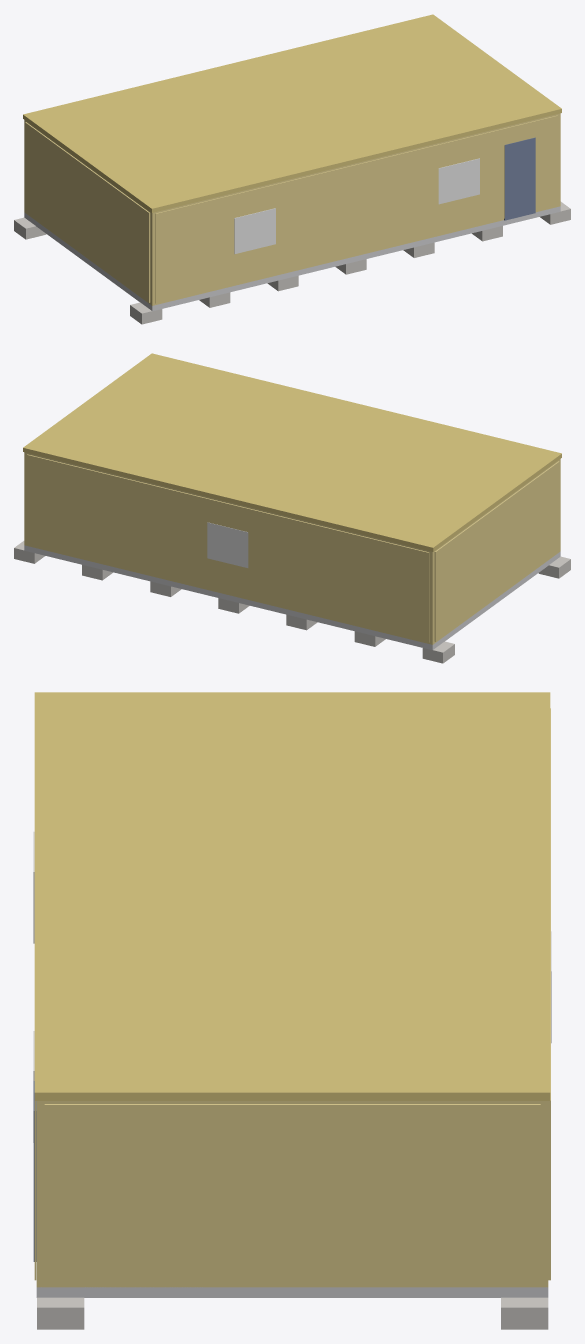
The model's file is Studio-40-Base-DesertYellow-LOD3.glb.
3 views of the same model, one above another, from view 1: azimuth 30°, elevation 25°; view 2: azimuth 150°, elevation 25°; view 3: azimuth 270°, elevation 25° (orthographic). The views are drawn at different scales.
Parts seen in each view (by area): view 1: RoofMain, ExteriorPanelsStandard, BaseFrame, WindowsStandard, ExteriorShell, FoundationBlocks, EntryDoor; view 2: RoofMain, ExteriorPanelsStandard, BaseFrame, ExteriorShell, FoundationBlocks, WindowsStandard; view 3: RoofMain, ExteriorPanelsStandard, ExteriorShell, BaseFrame, FoundationBlocks.
Part boxes in pixels (box(x1,y1,x2,y2)): RoofMain: box(23, 14, 561, 212); ExteriorPanelsStandard: box(25, 115, 557, 303); BaseFrame: box(24, 206, 560, 311); WindowsStandard: box(234, 158, 479, 254); ExteriorShell: box(24, 113, 560, 305); FoundationBlocks: box(14, 201, 570, 324); EntryDoor: box(504, 137, 535, 220); RoofMain: box(23, 353, 561, 551); ExteriorPanelsStandard: box(27, 454, 559, 642); BaseFrame: box(24, 545, 560, 650); ExteriorShell: box(24, 452, 560, 644); FoundationBlocks: box(14, 541, 570, 663); WindowsStandard: box(207, 522, 248, 567); RoofMain: box(34, 692, 550, 1100); ExteriorPanelsStandard: box(34, 708, 550, 1284); ExteriorShell: box(36, 1101, 548, 1287); BaseFrame: box(36, 1287, 548, 1297); FoundationBlocks: box(37, 1297, 548, 1329).
Size of the model in its own units: 12.49 by 3.17 by 6.53.
